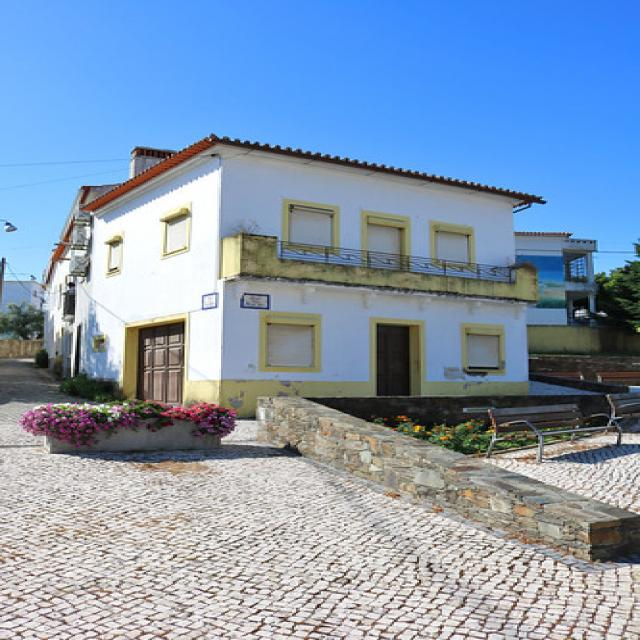Normal_building: (34, 132, 548, 427)
